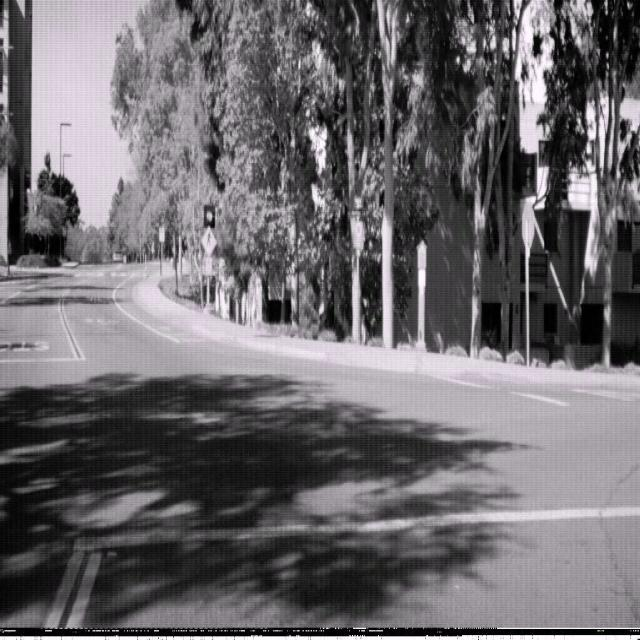pedestrianCrossing: (200, 225, 217, 258)
